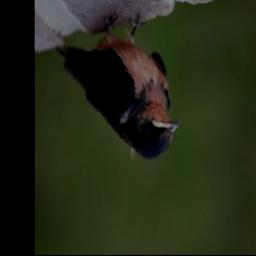Swallow: (56, 10, 181, 163)
